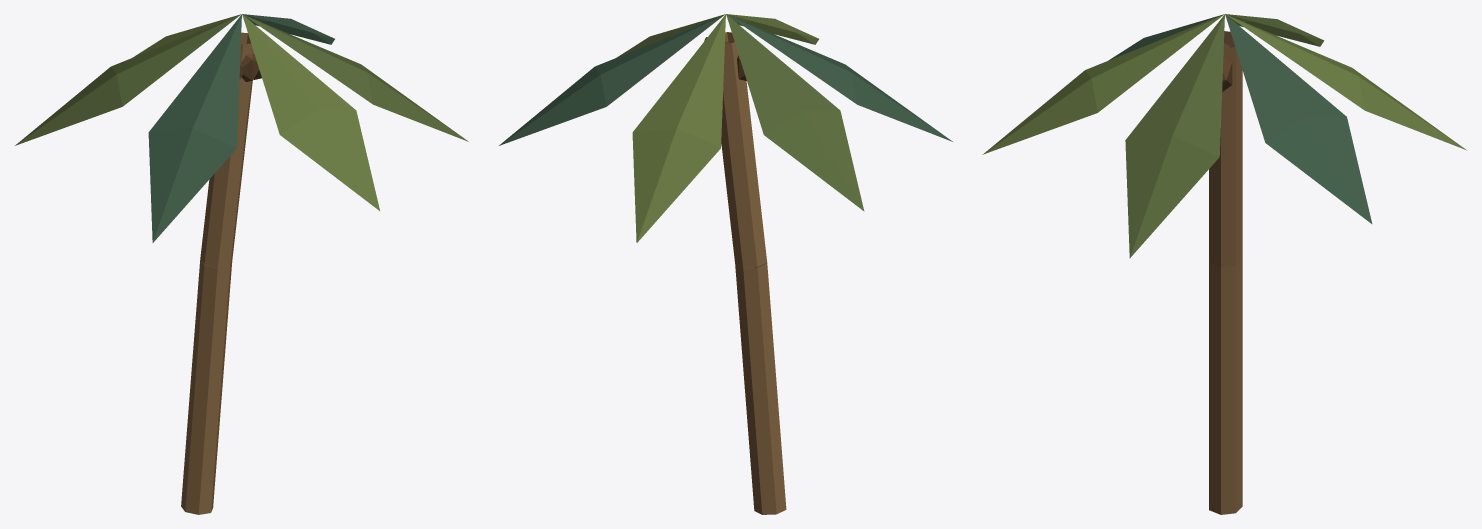
3 views of the same model, side by side, from view 1: azimuth 30°, elevation 25°; view 2: azimuth 150°, elevation 25°; view 3: azimuth 270°, elevation 25° (orthographic). The views are drawn at different scales.
Visible parts, largest first — view 1: T21_港岸棕榈; view 2: T21_港岸棕榈; view 3: T21_港岸棕榈.
Part boxes in pixels (box(x1,y1,x2,y2)): T21_港岸棕榈: box(15, 14, 468, 514); T21_港岸棕榈: box(499, 14, 952, 514); T21_港岸棕榈: box(982, 14, 1466, 514).
Bounding box in the file's own units: 2.3 × 2.91 × 2.47.
